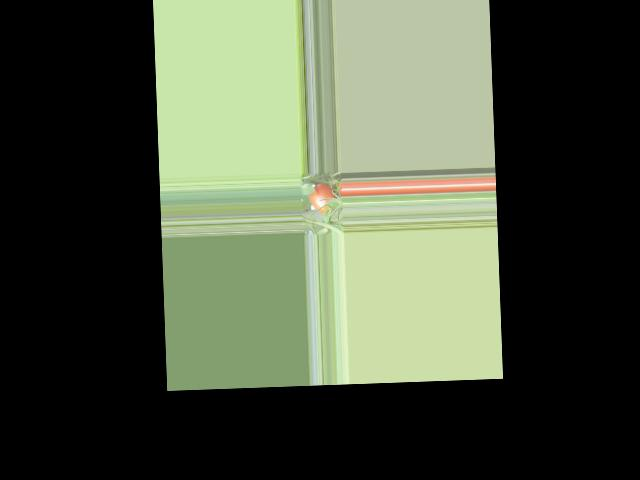tomato: (309, 182, 336, 213)
